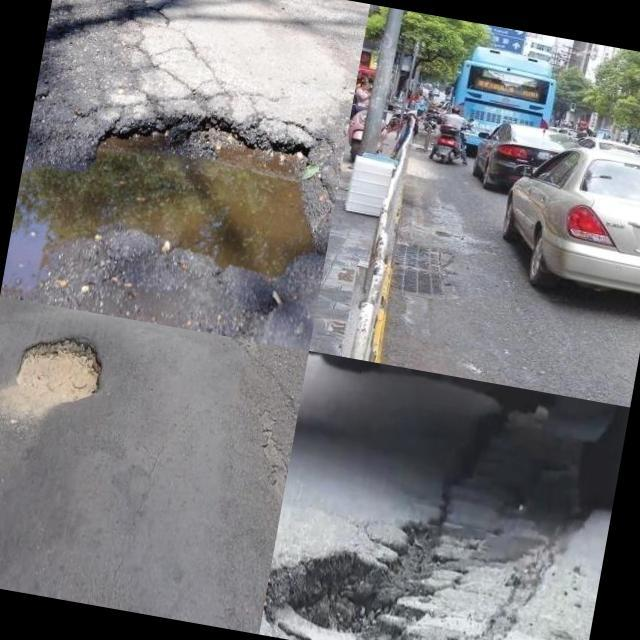Pothole: (1, 119, 340, 312), (261, 498, 565, 640), (11, 331, 106, 411)
